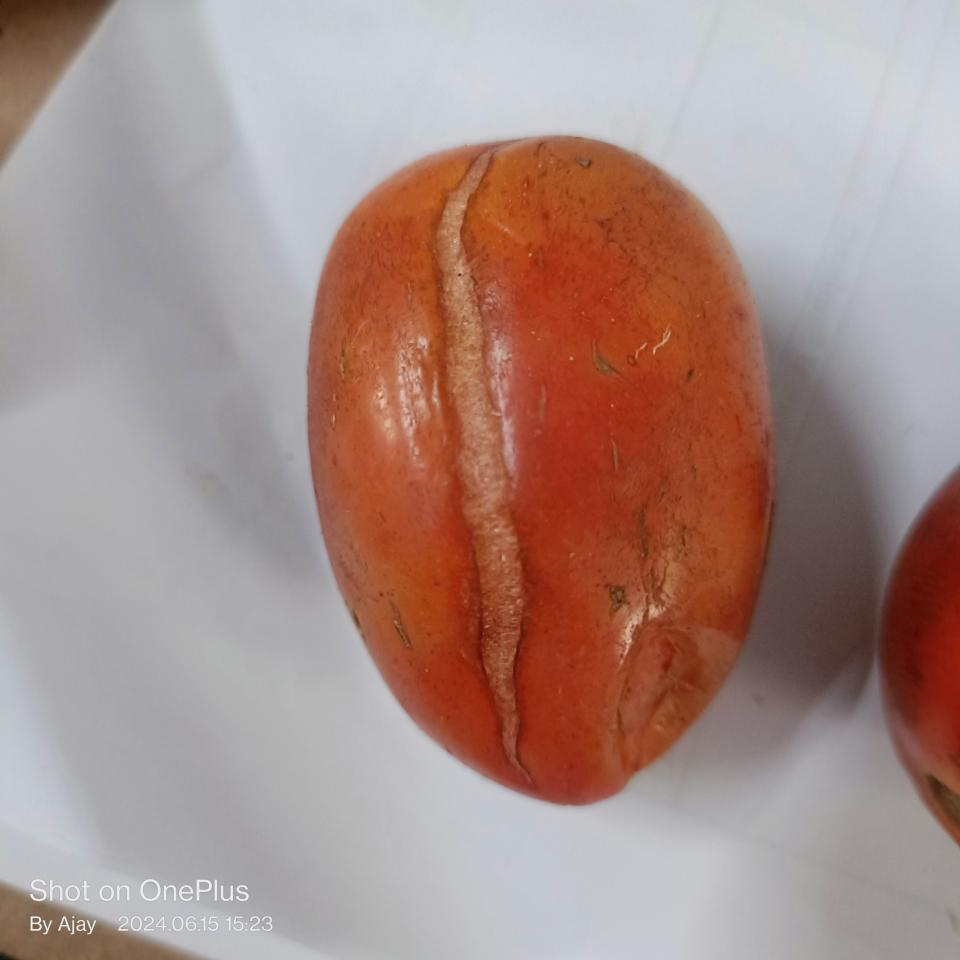Cracking: (438, 134, 529, 775)
